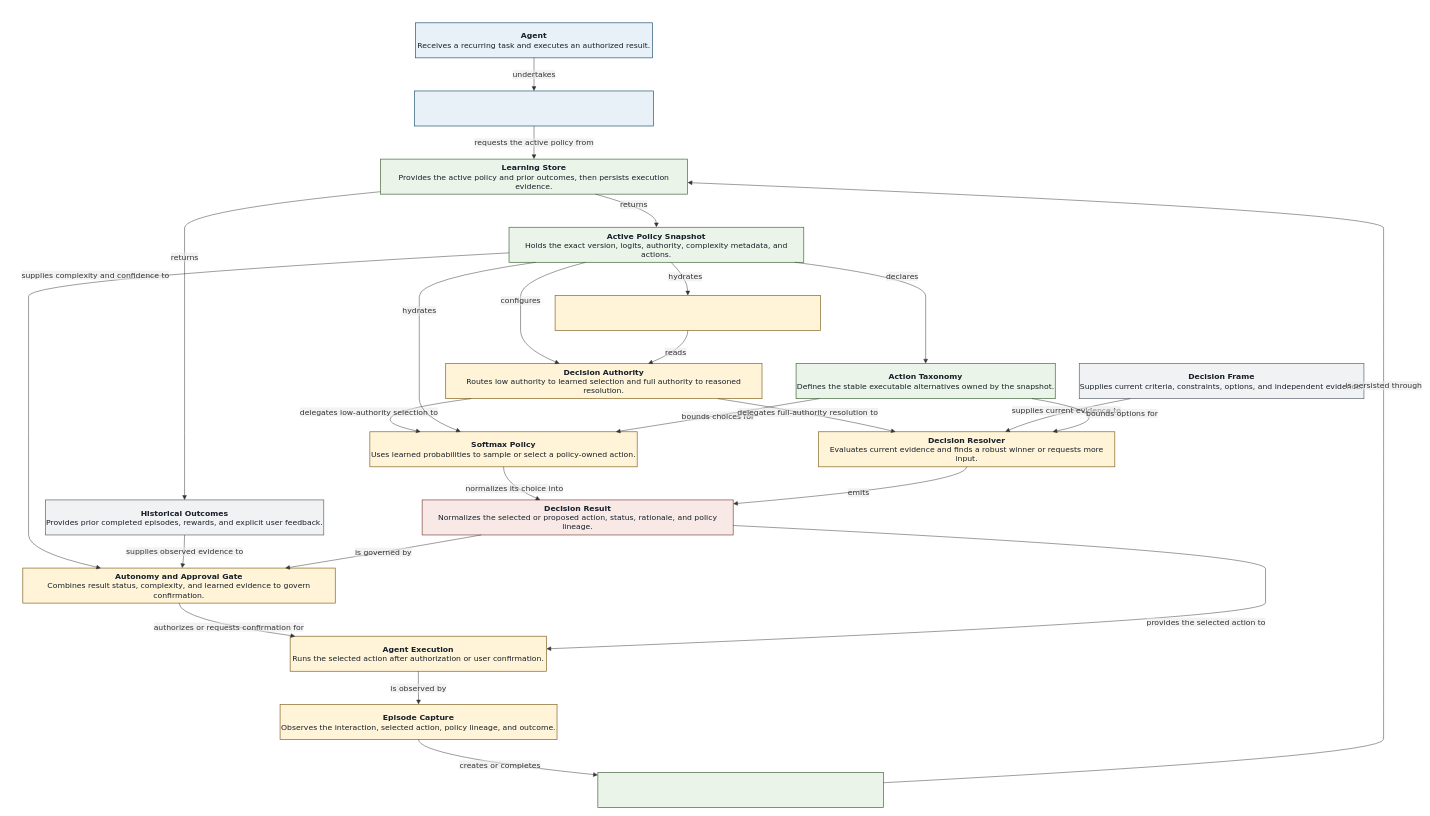
This 1430x816 diagram has some shape labels left out. The centre of each missing label's shape, as x and y in pixels:
"Decision Task Names the reusable decision context for one agent-task pair." belongs at (x=534, y=108).
"Episode Preserves the durable execution record consumed by scoring and learning." belongs at (x=740, y=790).
"Task Policy Wraps one active snapshot and exposes a unified decision operation." belongs at (x=688, y=313).
